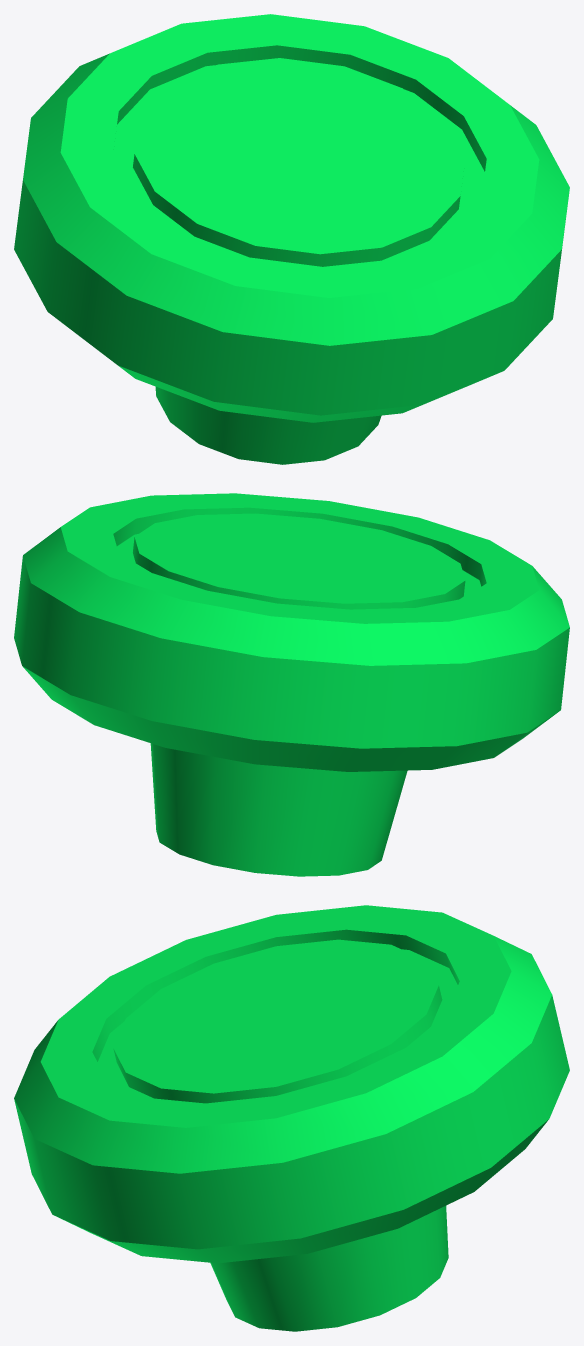
The model's file is rover_GreenButt.gltf.
3 views of the same model, one above another, from view 1: azimuth 30°, elevation 25°; view 2: azimuth 150°, elevation 25°; view 3: azimuth 270°, elevation 25° (orthographic).
Visible parts, largest first — view 1: button_geo1.003; view 2: button_geo1.003; view 3: button_geo1.003.
Boxes of the visible parts, bbox=[...] form: button_geo1.003: bbox=[14, 14, 569, 464]; button_geo1.003: bbox=[14, 493, 569, 876]; button_geo1.003: bbox=[14, 905, 569, 1331].
Size of the model in its own units: 0.72 by 0.4756 by 0.7275.
